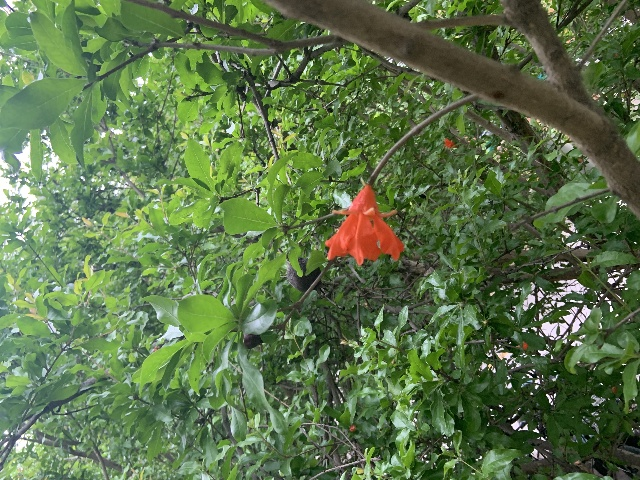bud: (349, 425, 356, 432)
flower: (324, 183, 403, 266), (443, 137, 456, 148), (566, 39, 570, 43)
